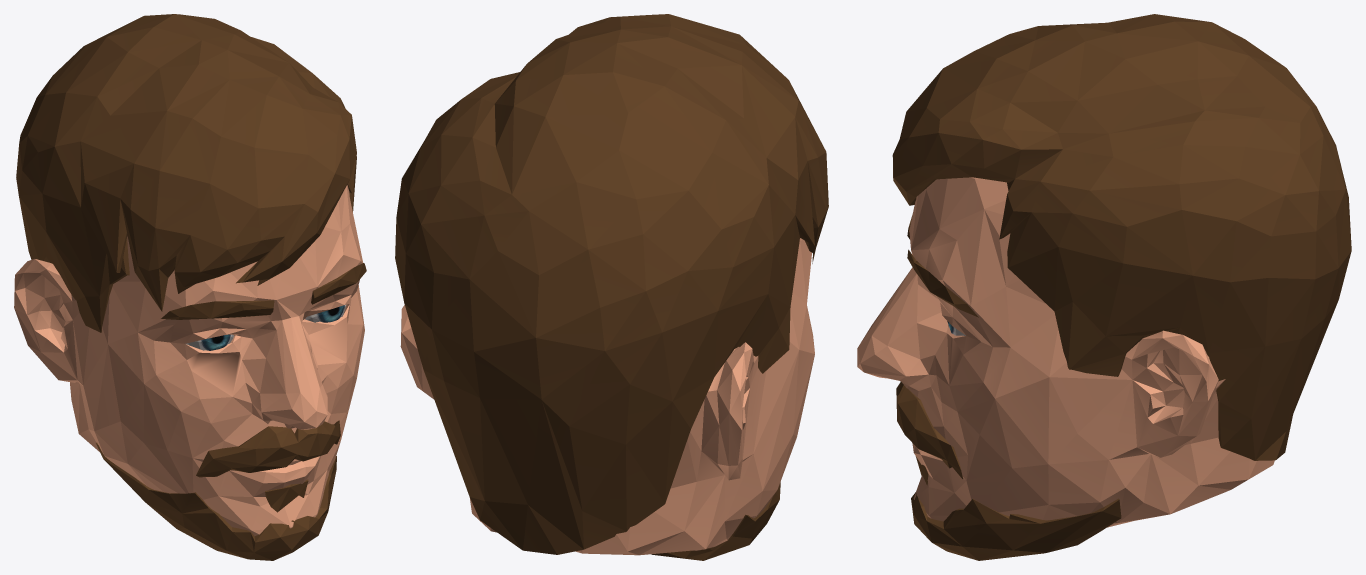
Rendered from mrbeast.glb.
3 renders of one model, left to right at view 1: azimuth 30°, elevation 25°; view 2: azimuth 150°, elevation 25°; view 3: azimuth 270°, elevation 25°, orthographic. The views are drawn at different scales.
Visible parts, largest first — view 1: face; view 2: face; view 3: face.
Part boxes in pixels (<box>): face: <box>14,14,366,560</box>; face: <box>395,14,828,560</box>; face: <box>857,14,1351,560</box>.
Bounding box in the file's own units: 0.6457 × 0.9918 × 0.8621.
Materials: 4 (1 with a texture image).
